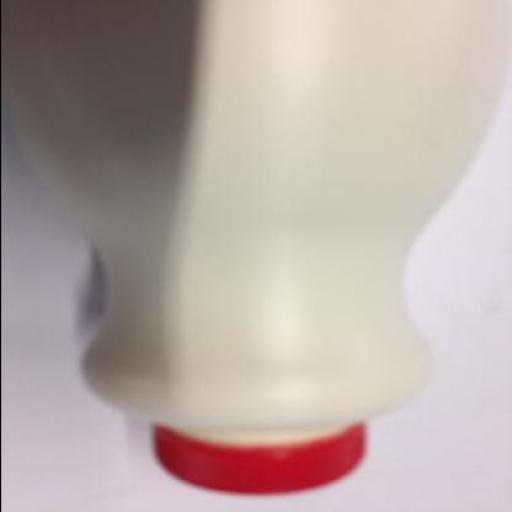plastic: (1, 1, 511, 495), (152, 424, 366, 497)
